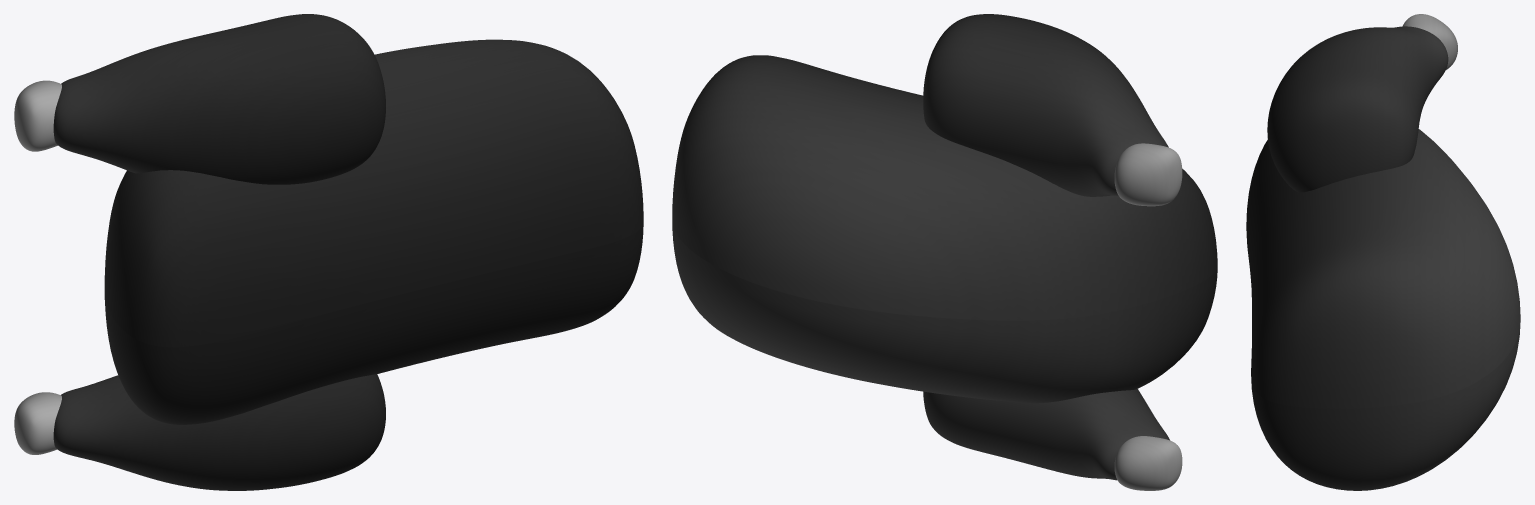
The model's file is HH_BurntChicken.fbx.
The picture shows the model from 3 angles, left to right: view 1: azimuth 30°, elevation 25°; view 2: azimuth 150°, elevation 25°; view 3: azimuth 270°, elevation 25°; orthographic projection. The views are drawn at different scales.
Visible parts, largest first — view 1: Top.002, Bottom.002; view 2: Top.002, Bottom.002; view 3: Top.002, Bottom.002.
Boxes of the visible parts, x1,y1,x2,y2 form: Top.002: [14, 14, 643, 347]; Bottom.002: [14, 223, 643, 490]; Top.002: [672, 14, 1217, 320]; Bottom.002: [672, 222, 1217, 490]; Top.002: [1246, 14, 1520, 408]; Bottom.002: [1246, 235, 1520, 490].
Size of the model in its own units: 120 by 92.16 by 60.
Materials: 1 (1 with a texture image).
